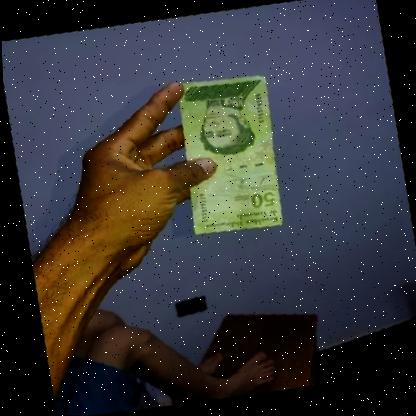fifty-front-vef: (156, 65, 300, 245)
